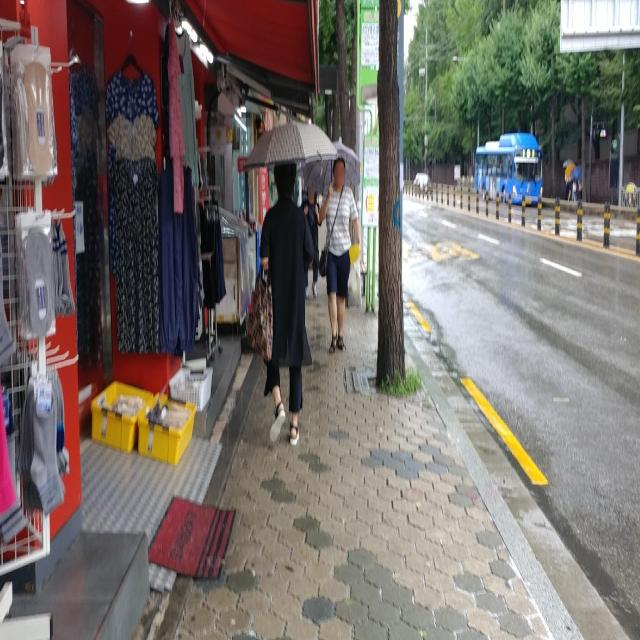person ahead at: (263, 163, 311, 455), (320, 160, 359, 352)
tree ahead at: (373, 2, 413, 386)
